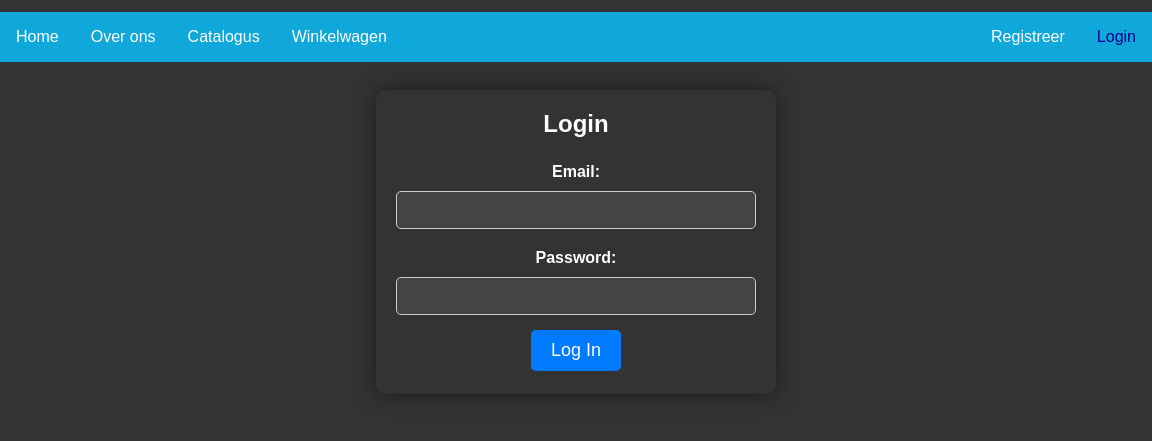
Login Page › should display an error message with invalid credentials
Type "invalid@example.com" into the field with test id "email-input" at (576, 210), box [396,191,756,229]
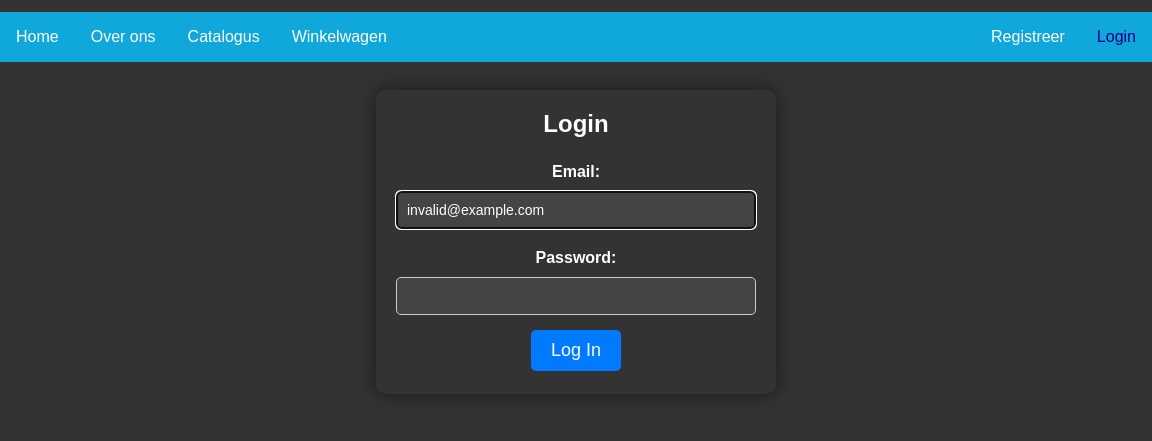
Type "invalidpassword" into the password field with test id "password-input" at (576, 296), box [396,277,756,315]
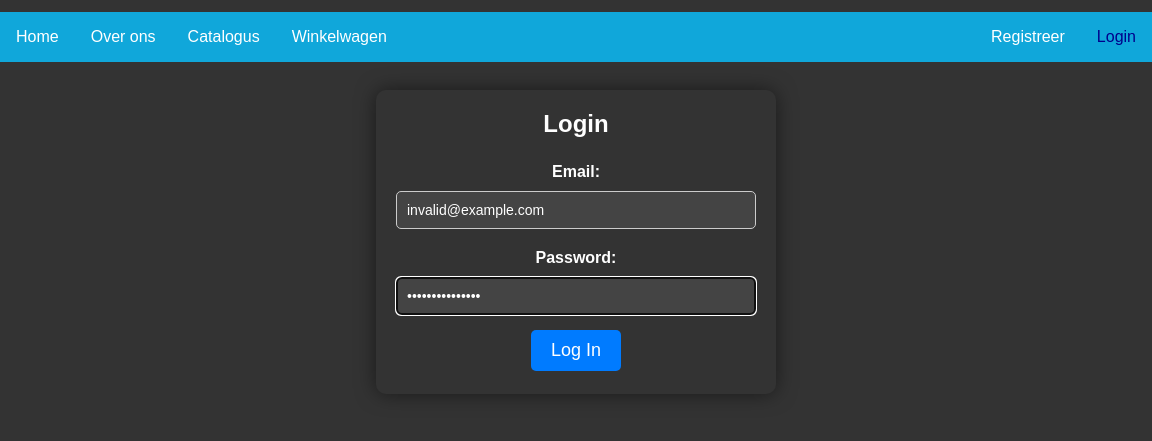
Click the button with test id "login-button" at (576, 351), box [531,330,621,371]
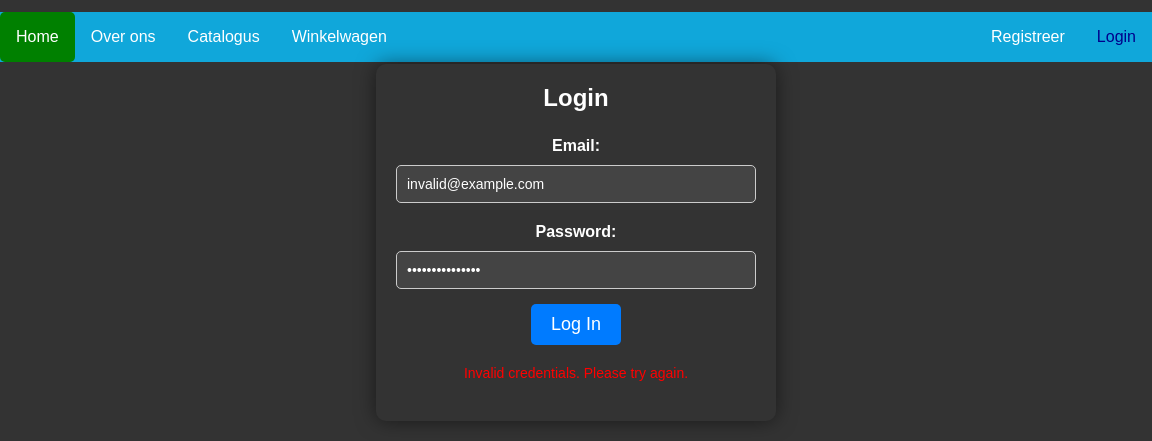
Result: the text "Invalid credentials. Please try again." is shown at [464,364,688,380]
Result: the text with test id "login-error" reads "Invalid credentials. Please try again." at [464,365,688,381]
